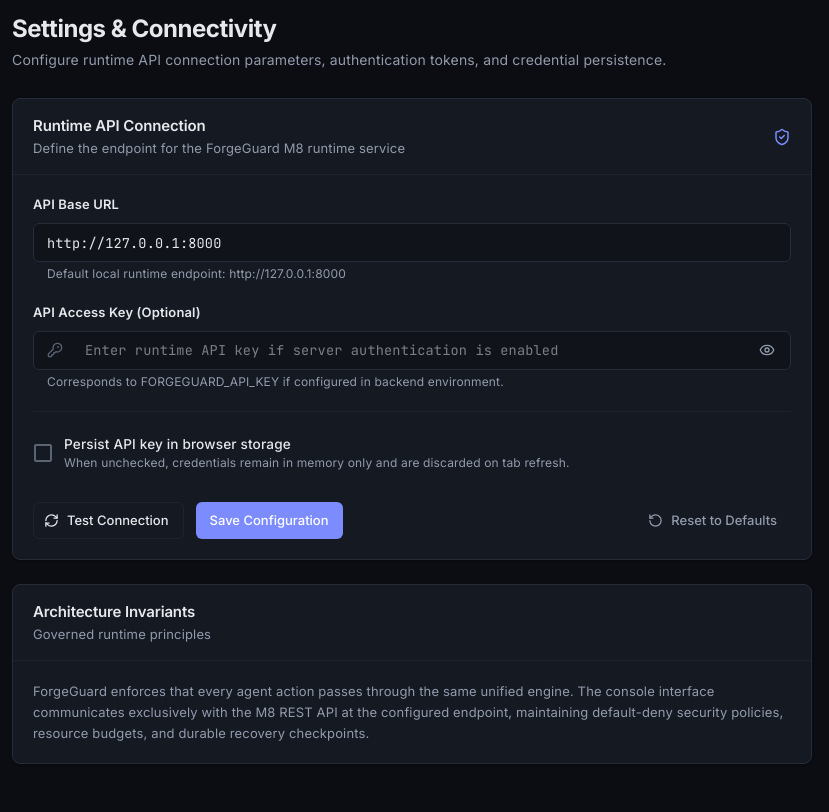
Test case: SettingsPage › handles successful API connection test
Step 1. Click the button "Test Connection" → (108, 520), box [33, 502, 184, 539]
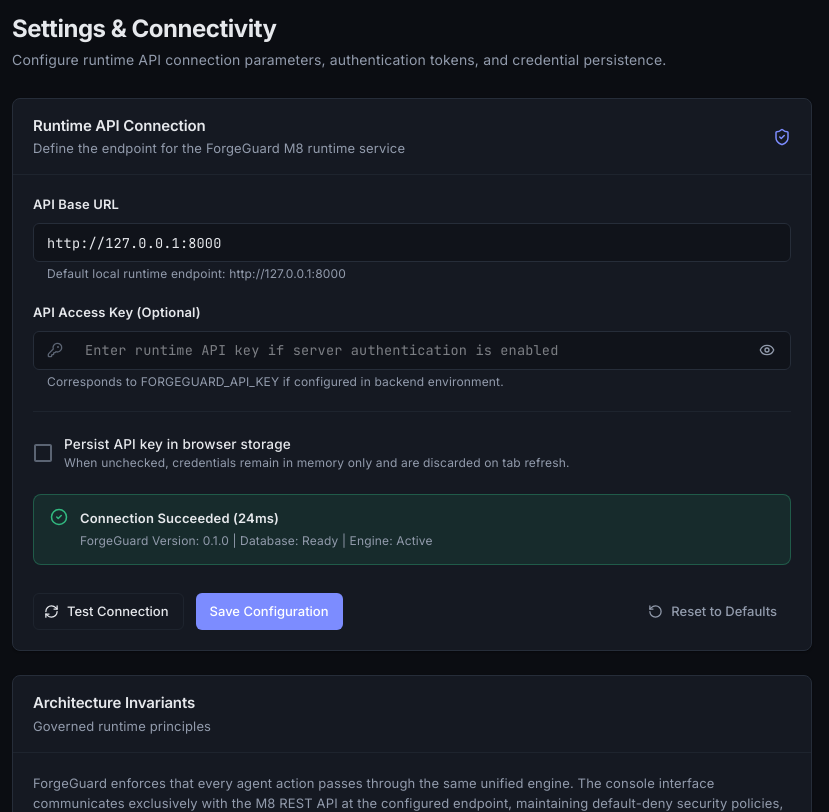
Check: the text "Connection Succeeded (24ms)" is shown, box [80, 510, 279, 526]
Check: the text "ForgeGuard Version: 0.1.0 | Database: Ready | Engine: Active" is shown, box [80, 532, 433, 550]
